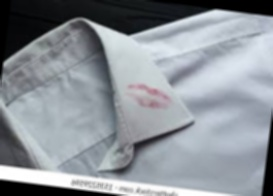lipstick: (124, 86, 171, 112)
